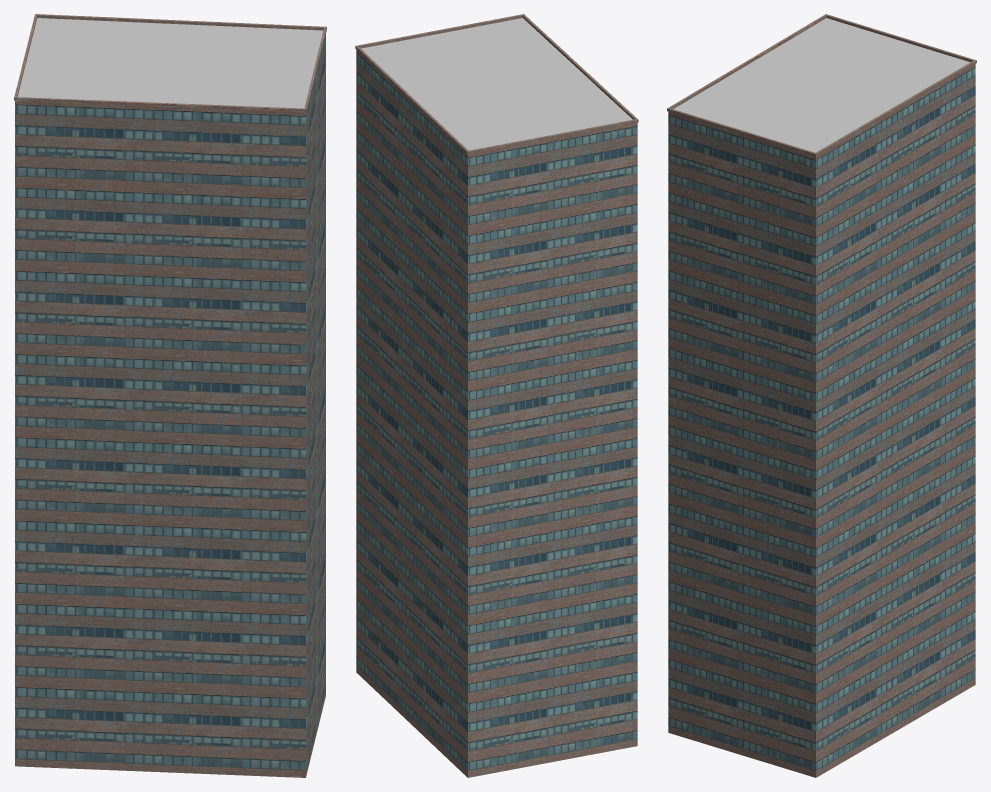
File: Building_099.fbx
3 views of the same model, side by side, from view 1: azimuth 30°, elevation 25°; view 2: azimuth 150°, elevation 25°; view 3: azimuth 270°, elevation 25° (orthographic). The views are drawn at different scales.
Parts seen in each view (by area): view 1: HighRise04, Roofpanels; view 2: HighRise04, Roofpanels; view 3: HighRise04, Roofpanels.
Boxes of the visible parts, box(x1,y1,x2,y2) form: HighRise04: box(14, 14, 326, 777); Roofpanels: box(17, 18, 323, 108); HighRise04: box(355, 14, 638, 777); Roofpanels: box(361, 18, 632, 150); HighRise04: box(667, 14, 976, 777); Roofpanels: box(673, 18, 969, 152).
Size of the model in its own units: 2898 by 6019 by 2708.
